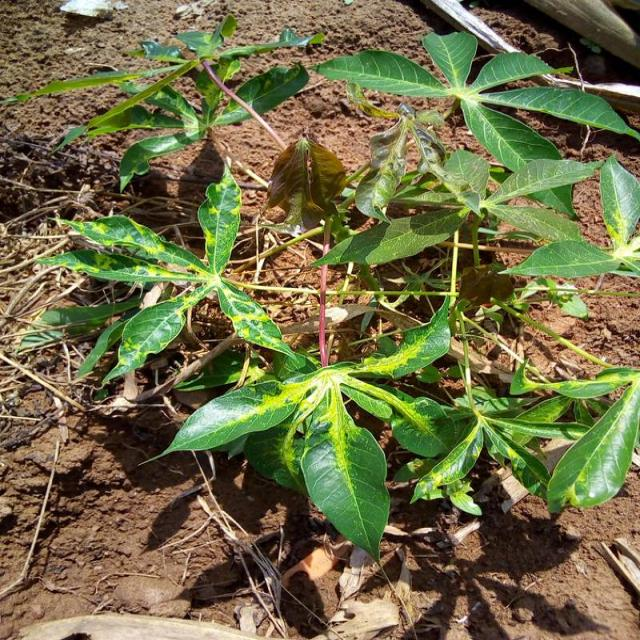cassava leaf: (16, 16, 638, 562), (140, 292, 454, 561), (546, 369, 638, 514)
